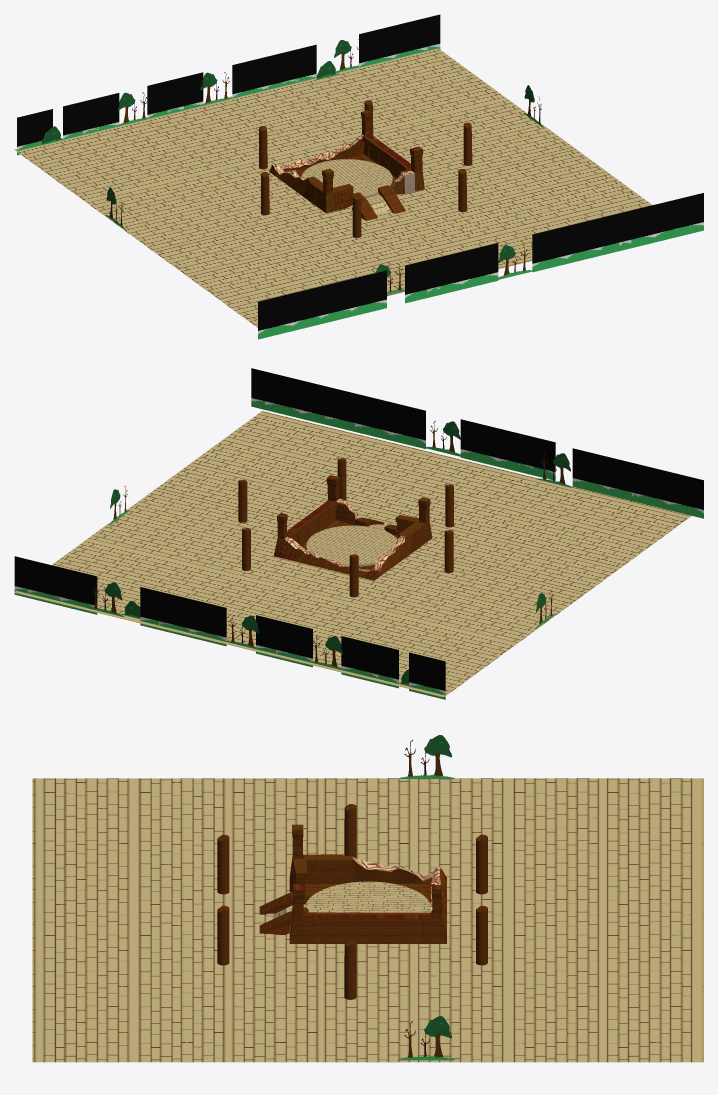
Rendered from MesopotamiaBeta2.fbx.
3 renders of one model, top to bottom at view 1: azimuth 30°, elevation 25°; view 2: azimuth 150°, elevation 25°; view 3: azimuth 270°, elevation 25°, orthographic. The views are drawn at different scales.
Parts seen in each view (by area): view 1: FloorBackdrop, pPlane2, pPlane1, Trees12, Trees5, Trees8, Trees6, Trees11, Trees13, Trees19, Trees10, Trees9 (+15 smaller); view 2: FloorBackdrop, pPlane2, pPlane1, Trees5, Trees12, Trees11, Trees8, Trees6, Trees21, Trees13, Trees16, Trees24 (+15 smaller); view 3: FloorBackdrop, pPlane2, pPlane1, trees, Trees1, pCylinder6, pCylinder7, pCylinder8, pCylinder5, pCylinder4, pCylinder9.
Boxes of the visible parts, x1=… form: FloorBackdrop: x1=14, y1=48, x2=652, y2=327; pPlane2: x1=269, y1=110, x2=424, y2=220; pPlane1: x1=301, y1=159, x2=392, y2=197; Trees12: x1=532, y1=226, x2=568, y2=272; Trees5: x1=462, y1=243, x2=498, y2=289; Trees8: x1=350, y1=270, x2=386, y2=316; Trees6: x1=427, y1=251, x2=463, y2=297; Trees11: x1=258, y1=293, x2=293, y2=339; Trees13: x1=568, y1=217, x2=601, y2=263; Trees19: x1=147, y1=77, x2=183, y2=118; Trees10: x1=292, y1=284, x2=328, y2=330; Trees9: x1=320, y1=279, x2=356, y2=324; FloorBackdrop: x1=14, y1=411, x2=691, y2=697; pPlane2: x1=273, y1=475, x2=432, y2=580; pPlane1: x1=306, y1=525, x2=397, y2=566; Trees5: x1=460, y1=419, x2=497, y2=466; Trees12: x1=389, y1=402, x2=425, y2=448; Trees11: x1=667, y1=471, x2=703, y2=518; Trees8: x1=572, y1=448, x2=609, y2=494; Trees6: x1=496, y1=428, x2=533, y2=474; Trees21: x1=189, y1=599, x2=226, y2=646; Trees13: x1=355, y1=393, x2=391, y2=440; Trees16: x1=265, y1=371, x2=301, y2=418; Trees24: x1=409, y1=652, x2=445, y2=699; FloorBackdrop: x1=32, y1=778, x2=703, y2=1062; pPlane2: x1=259, y1=824, x2=446, y2=943; pPlane1: x1=305, y1=881, x2=430, y2=912; trees: x1=397, y1=1016, x2=454, y2=1060; Trees1: x1=397, y1=735, x2=454, y2=778; pCylinder6: x1=217, y1=905, x2=229, y2=965; pCylinder7: x1=217, y1=834, x2=229, y2=894; pCylinder8: x1=344, y1=940, x2=356, y2=999; pCylinder5: x1=476, y1=905, x2=487, y2=965; pCylinder4: x1=476, y1=834, x2=487, y2=894; pCylinder9: x1=344, y1=804, x2=356, y2=858.
Bounding box in the file's own units: 11713 × 1366 × 11407.
